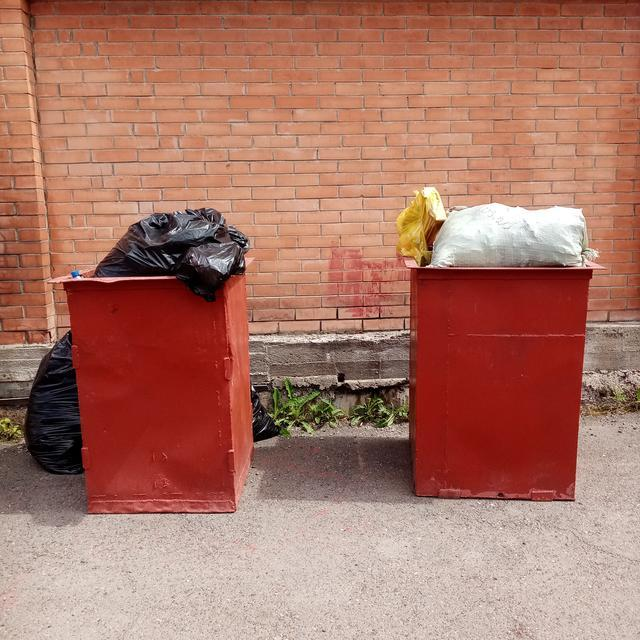Trash_Can_Full: (45, 208, 255, 514), (397, 186, 591, 500)
